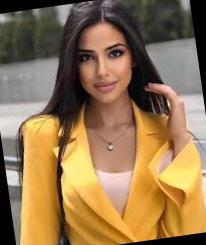Sober: (77, 24, 130, 103)
